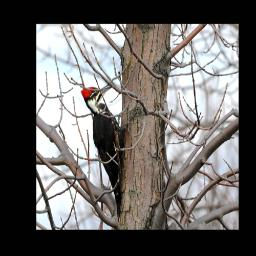Woodpecker: (80, 82, 127, 225)
